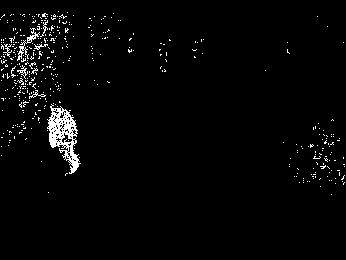person: (49, 104, 82, 176)
